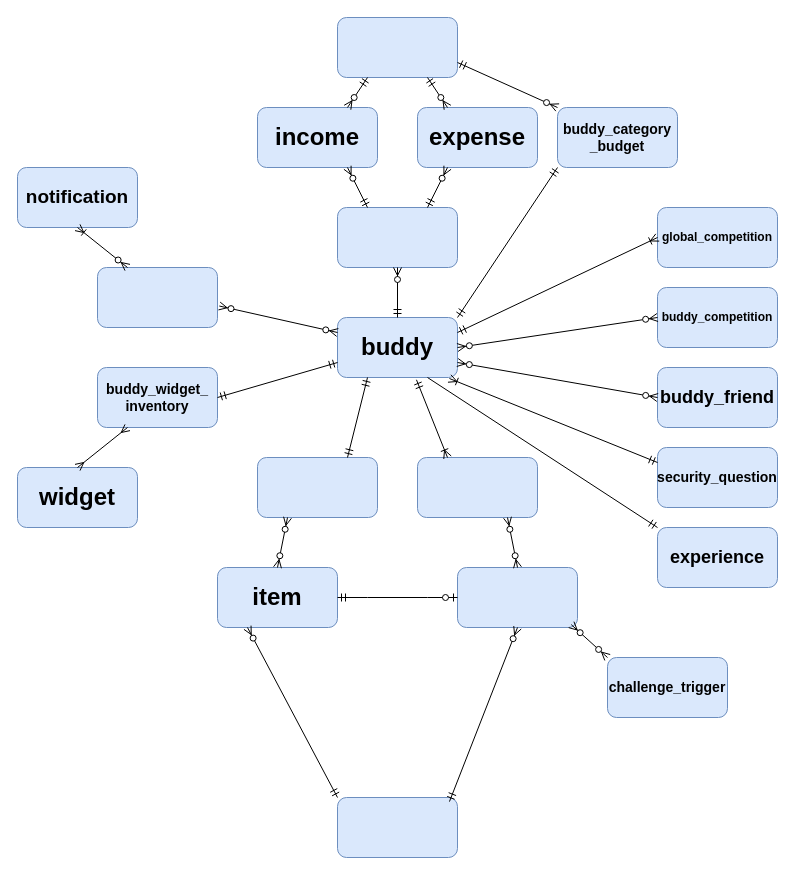
Image size: 795x875. Some labels were removed from this diagram. Each missing label, with the centre of its shape:
"buddy_challenge_ inventory" goes at point (477, 487).
"buddy_item_ inventory" goes at point (317, 487).
"buddy_notification_list" goes at point (157, 297).
"category" goes at point (397, 47).
"challenge" goes at point (517, 597).
"difficulty" goes at point (397, 827).
"receipt" goes at point (397, 237).
